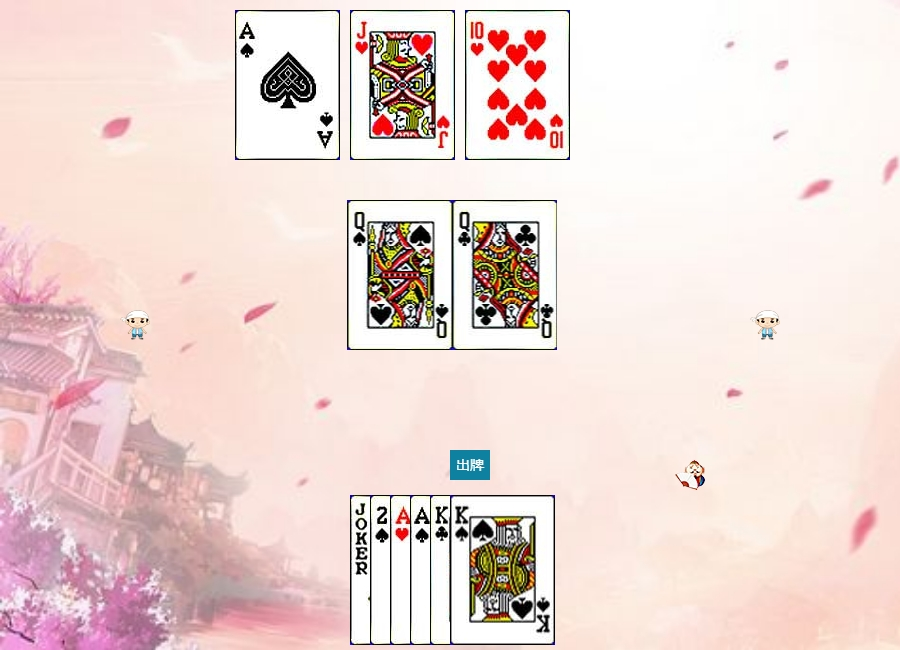10~3: (465, 10, 570, 160)
11~3: (350, 10, 455, 160)
12~2: (453, 200, 558, 350)
12~4: (348, 200, 453, 350)
13~2: (430, 495, 535, 645)
13~4: (450, 495, 555, 645)
14~3: (390, 495, 495, 645)
14~4: (235, 10, 340, 160), (410, 495, 515, 645)
15~4: (370, 495, 475, 645)
17~3: (350, 495, 455, 645)
